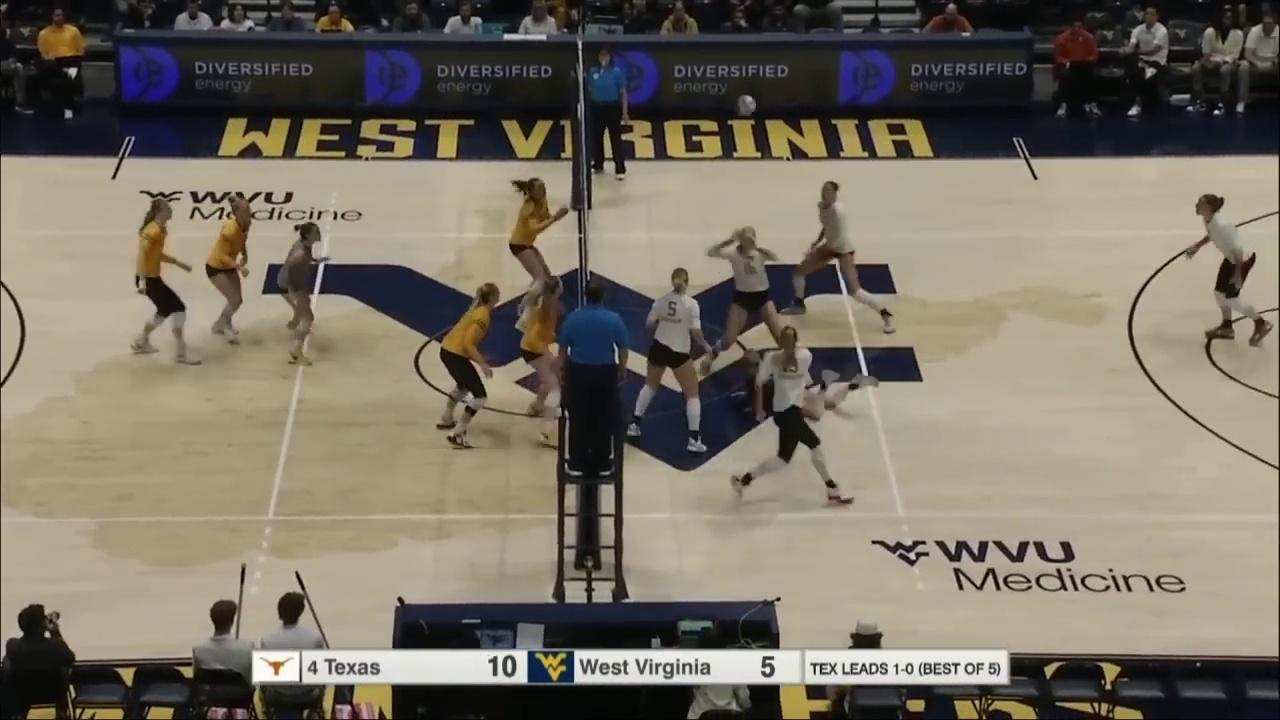player: (720, 308, 859, 513), (788, 179, 894, 331), (627, 266, 711, 453), (708, 226, 799, 375), (1189, 194, 1273, 344), (130, 194, 202, 366), (436, 282, 501, 451), (511, 178, 567, 330), (521, 275, 565, 447), (277, 223, 331, 363), (207, 195, 254, 344)
refree: (555, 279, 630, 474), (581, 47, 630, 177)
